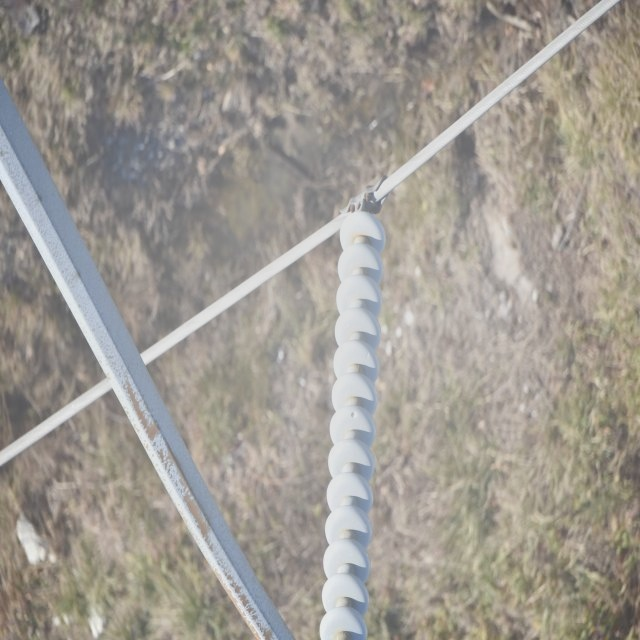broken: (348, 408, 358, 420)
insulator: (318, 211, 386, 638)
